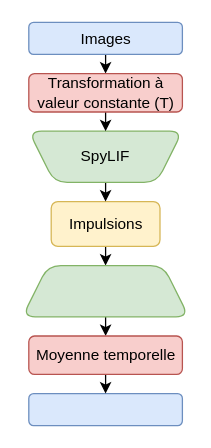
Image size: 211x448. Some labels were removed from this diagram. Here are the shapes that lost their labels. From the top down, the centre of each, then its label:
pixel 105 290: SpyLI
pixel 105 409: Images reconstruites
